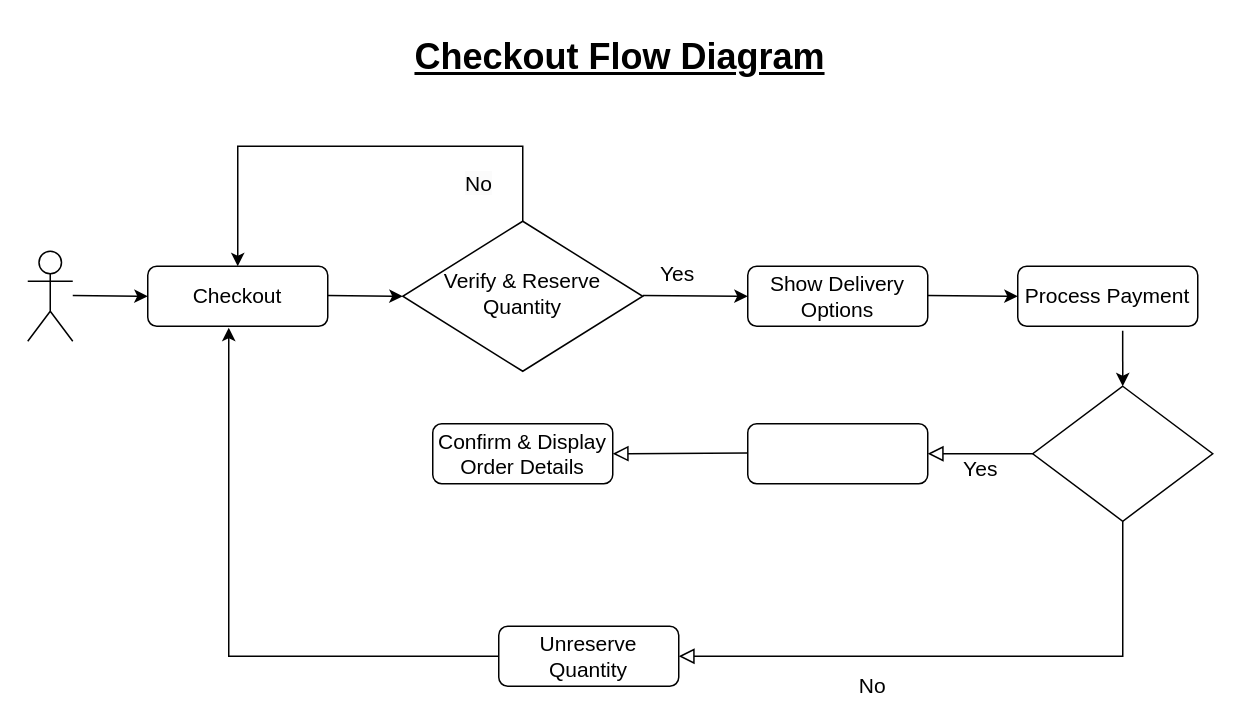
This 1239x725 diagram has some shape labels left out. The shapes that lost their labels are listed below. From the top down, each one's centre as x and y in pixels, then its label:
At (x=49, y=295): "Actor".
At (x=837, y=453): "Deduct Quantity".
At (x=1122, y=453): "isPayment Successful?".
